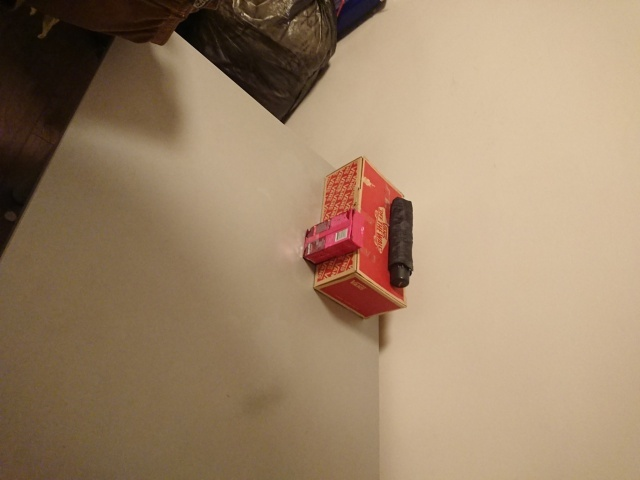Barcaffe Classic Original 225g: (300, 206, 368, 267)
